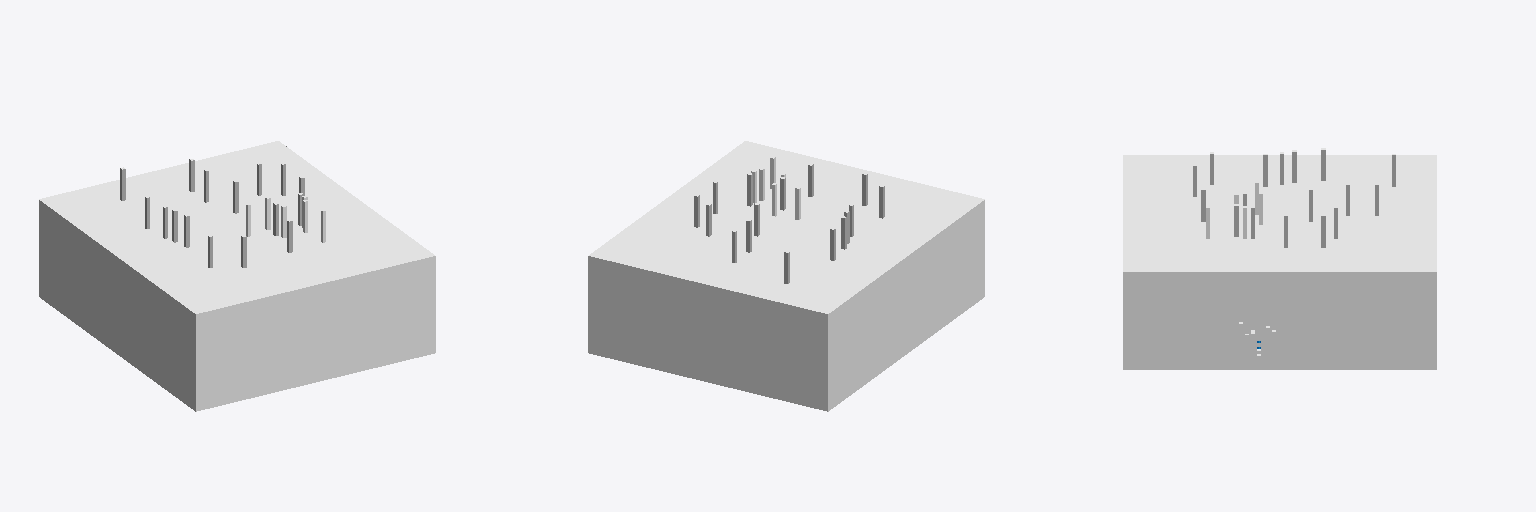
The picture shows the model from 3 angles: view 1: azimuth 30°, elevation 25°; view 2: azimuth 150°, elevation 25°; view 3: azimuth 270°, elevation 25°; orthographic projection.
Parts seen in each view (by area): view 1: TSP_BH01; view 2: TSP_BH01; view 3: TSP_BH01.
Boxes of the visible parts, box(x1,y1,x2,y2) form: TSP_BH01: box(39, 141, 435, 411); TSP_BH01: box(588, 141, 984, 411); TSP_BH01: box(1123, 148, 1436, 369).
Size of the model in its own units: 4960 by 2200 by 4864.
Materials: 9 (2 with a texture image).